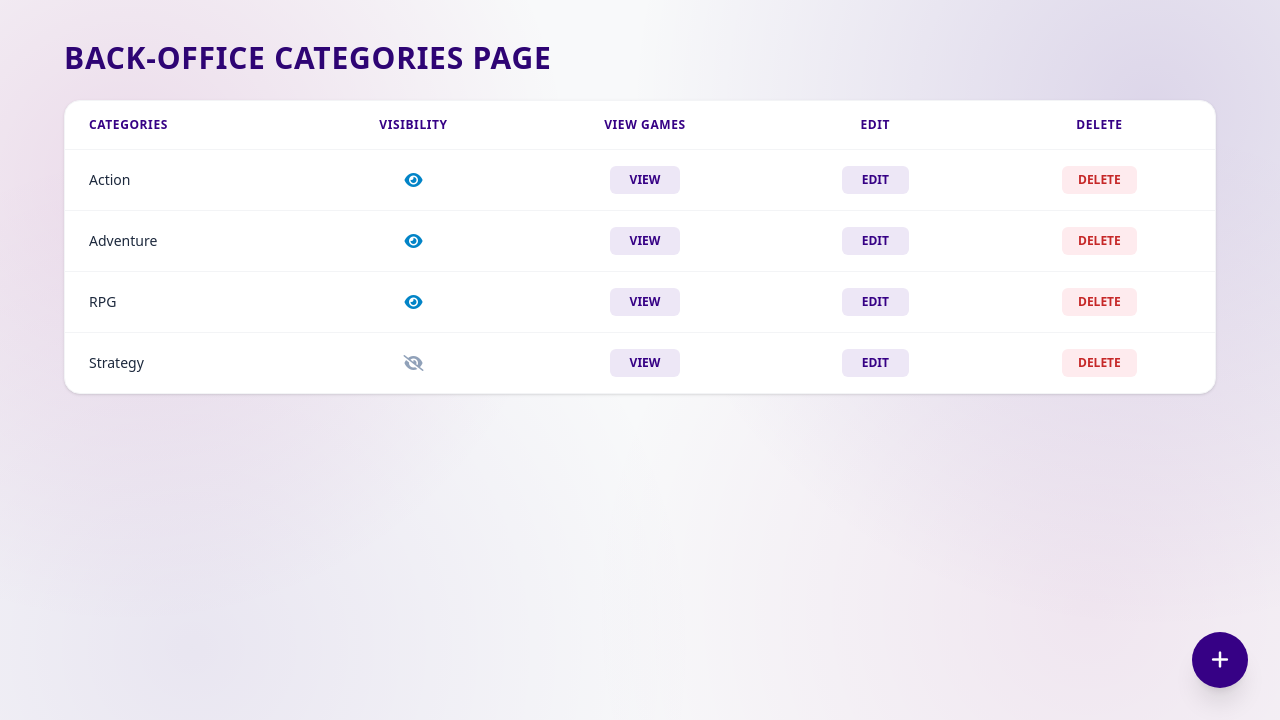
Scenario: AdminCategoriesView › toggles category visibility successfully
Click the button with test id "visibility-toggle-1" at {"x": 414, "y": 180}, box [400,168,426,192]
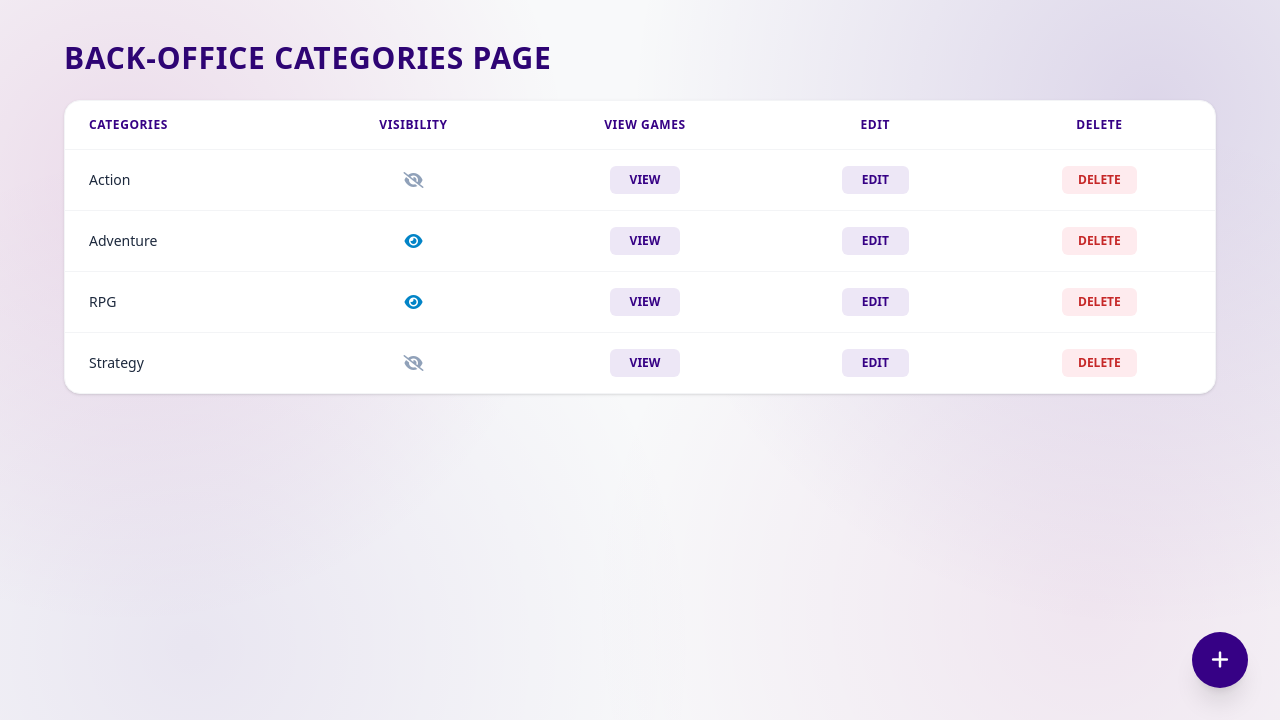
Result: the icon with test id "icon-hidden" in the row of "Action" is shown at [404,172,424,188]
